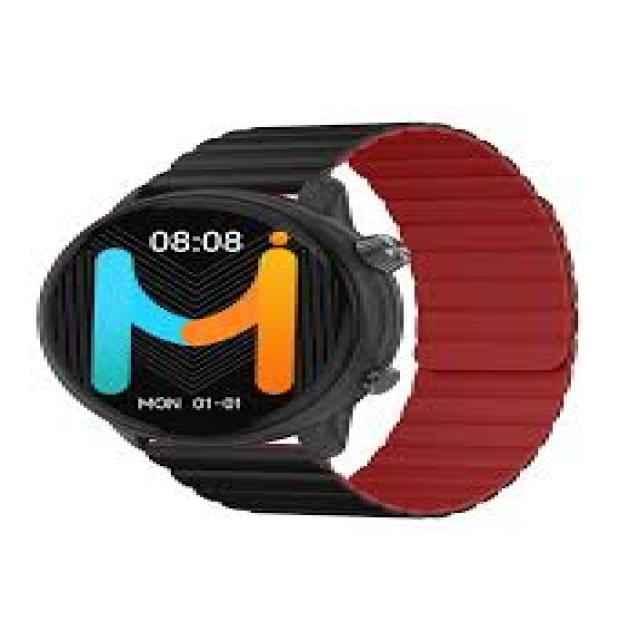objects: (40, 123, 571, 521)
